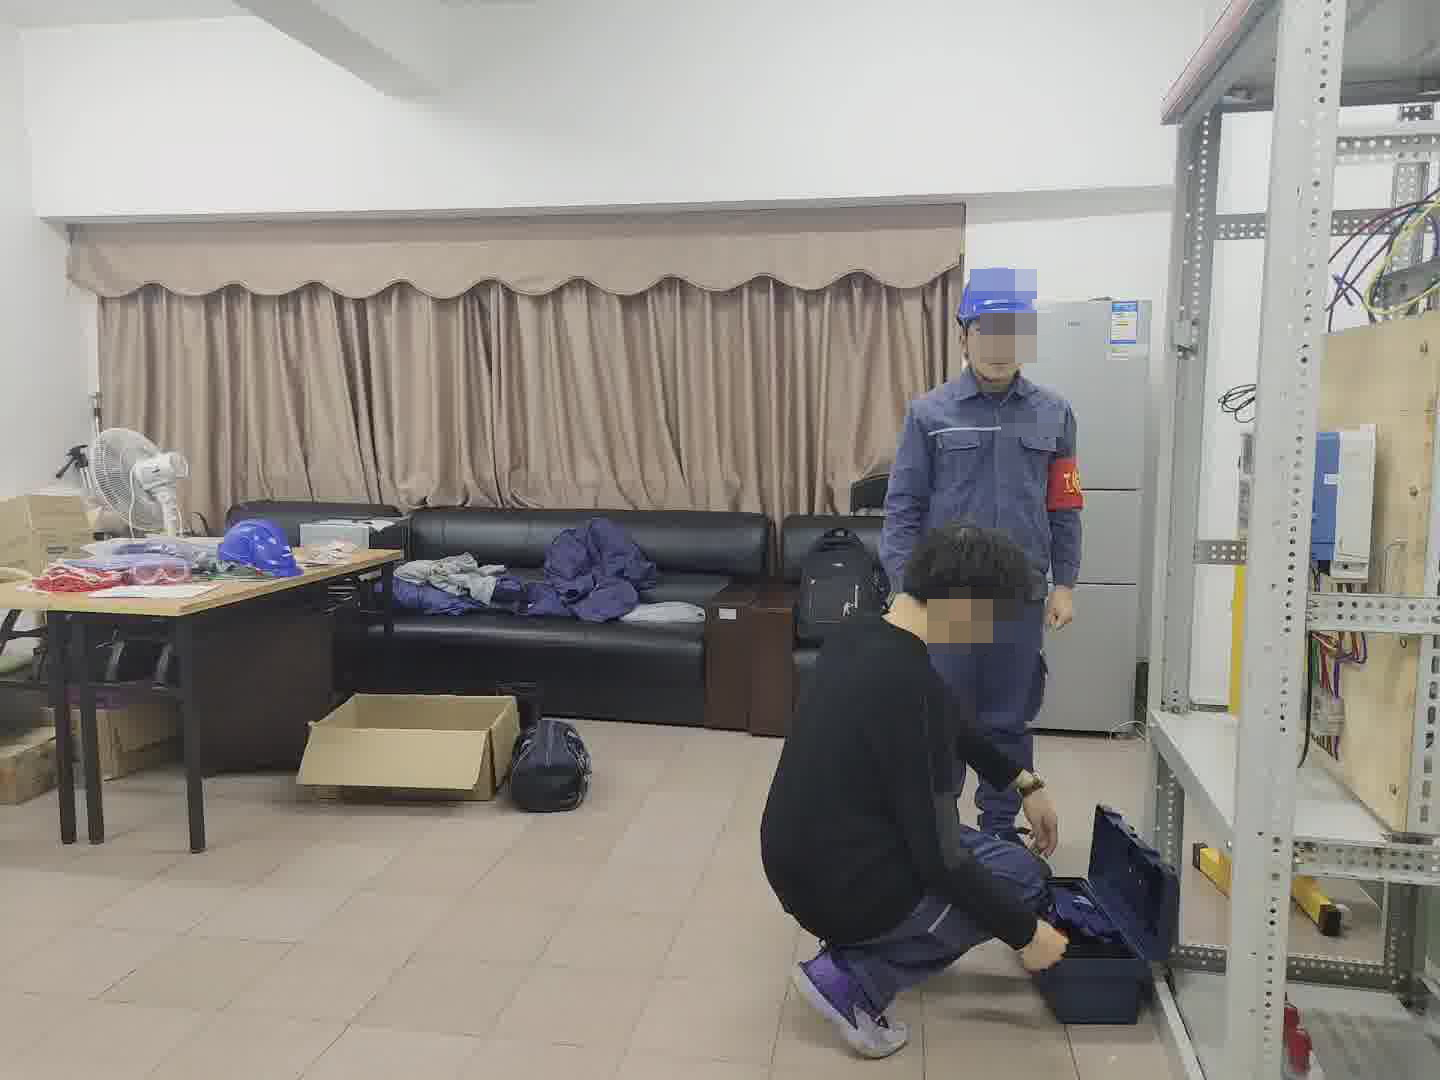badge: (1047, 455, 1086, 514)
downsuit: (849, 821, 1057, 1013), (915, 595, 1056, 846)
halt: (954, 264, 1042, 380)
hand: (1018, 773, 1071, 860), (1019, 910, 1070, 979), (1045, 584, 1075, 638)
noear: (935, 580, 989, 640)
person: (750, 519, 1072, 1062), (875, 261, 1089, 871)
unhalt: (883, 518, 1036, 661)
upcloth: (760, 608, 1037, 937)
upsuit: (878, 372, 1085, 605)
